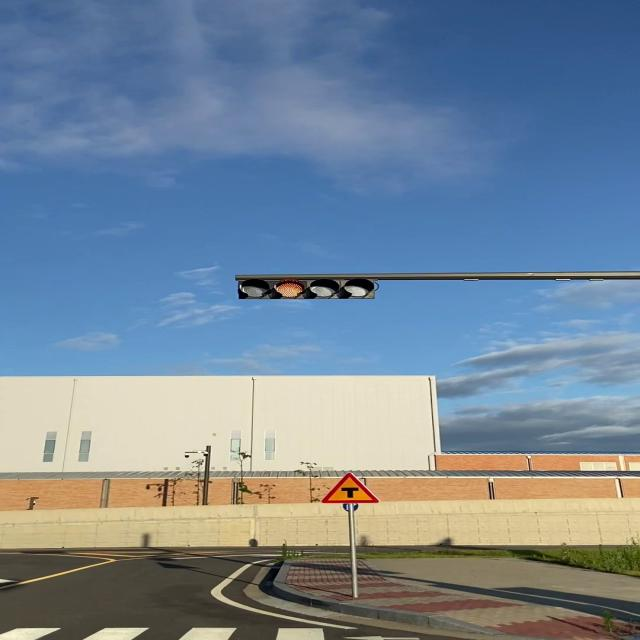yellow_light: (238, 278, 375, 299)
